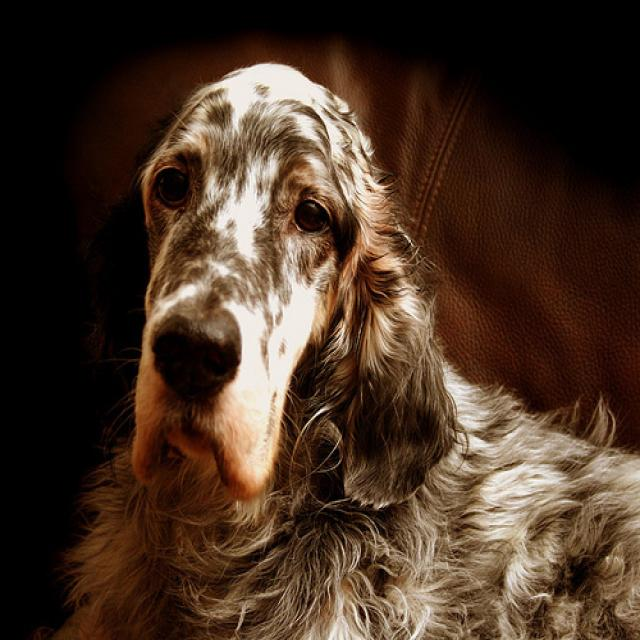dog-english_setter: (28, 51, 637, 637)
